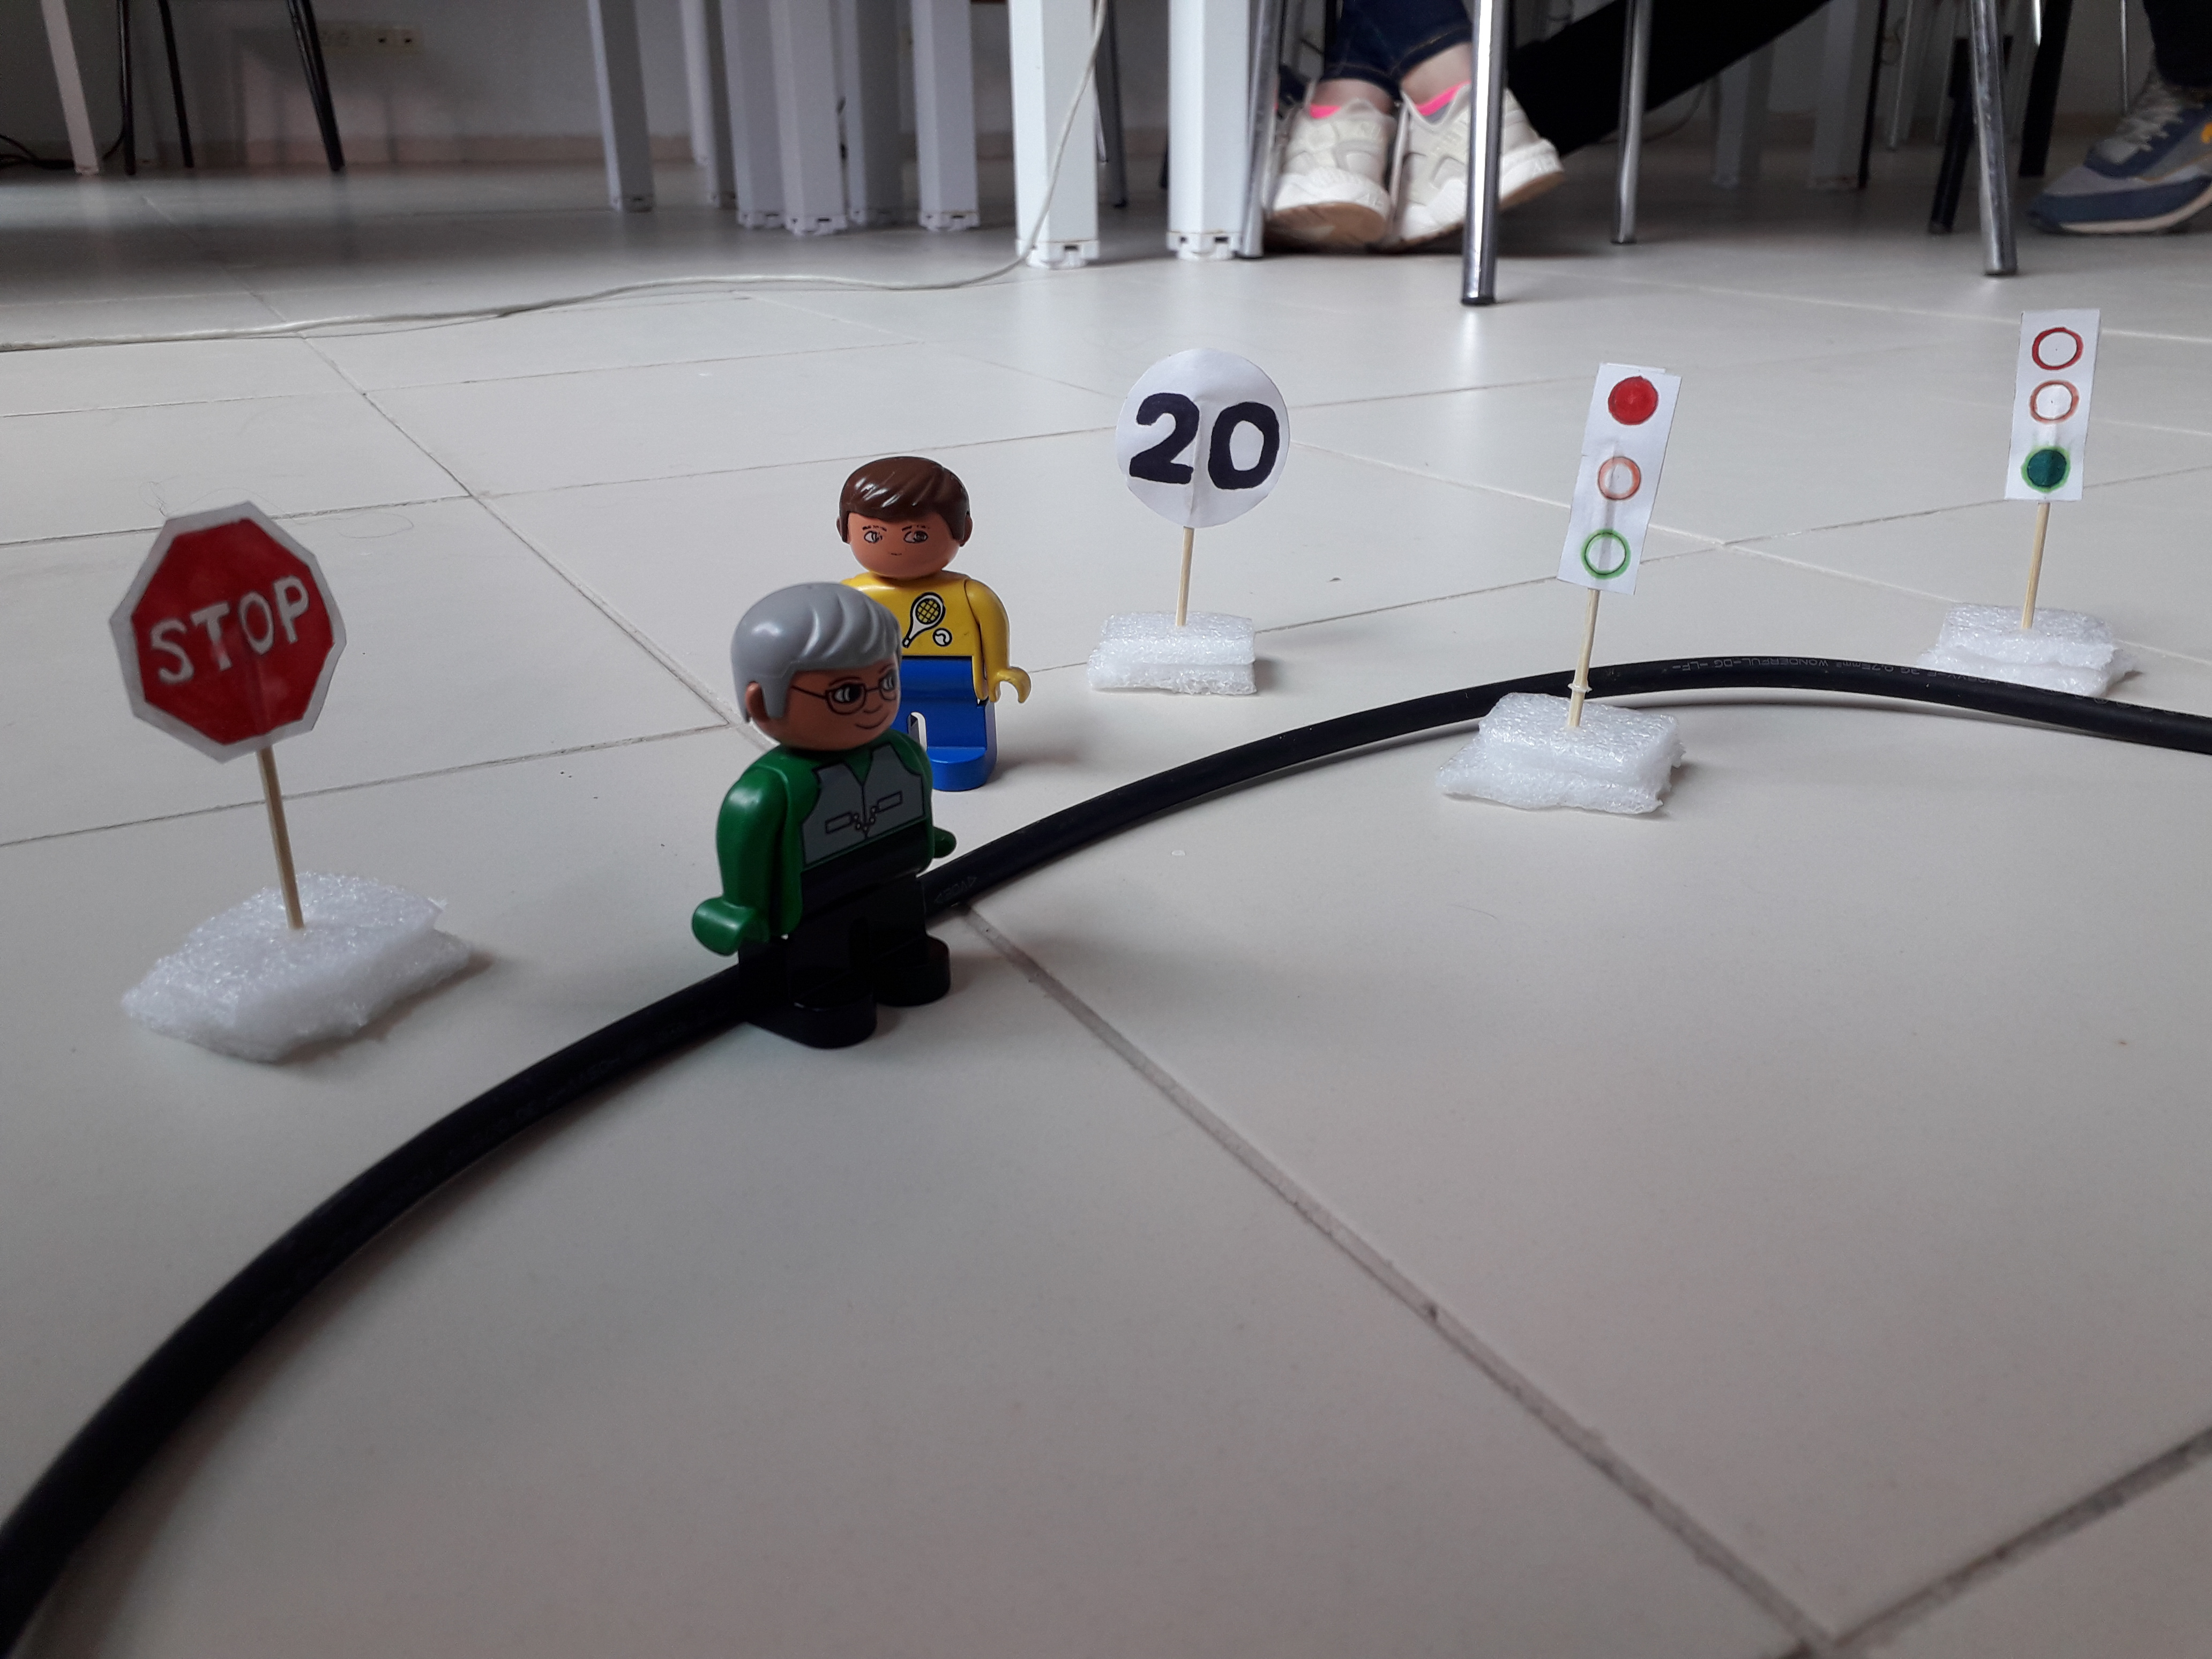20_sign: (1112, 347, 1294, 525)
green_light: (2005, 303, 2097, 507)
person: (691, 574, 972, 1059), (806, 454, 1036, 783)
red_light: (1551, 354, 1676, 597)
stop_sign: (104, 505, 357, 758)
